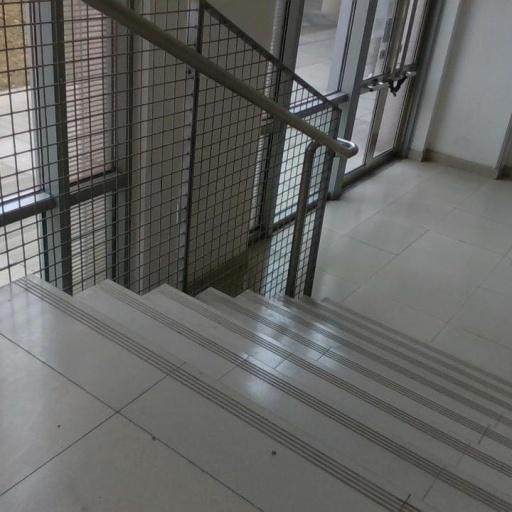stairs: (0, 277, 511, 511)
